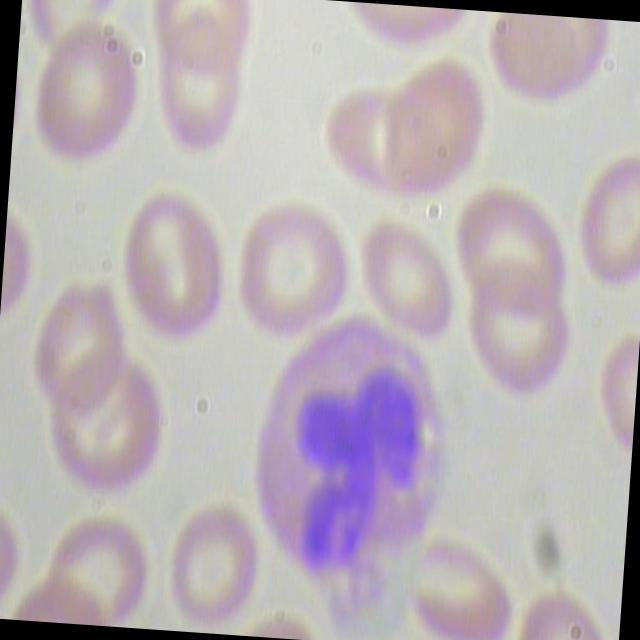RBC: (41, 340, 177, 504), (107, 184, 238, 350), (368, 54, 496, 212), (451, 251, 578, 409), (138, 4, 265, 162), (228, 188, 352, 340), (29, 16, 142, 182), (445, 181, 574, 321), (316, 85, 443, 213), (27, 280, 134, 428), (349, 212, 462, 347), (162, 497, 267, 636), (391, 527, 518, 640), (567, 144, 640, 298)
WBC: (238, 310, 466, 606)
